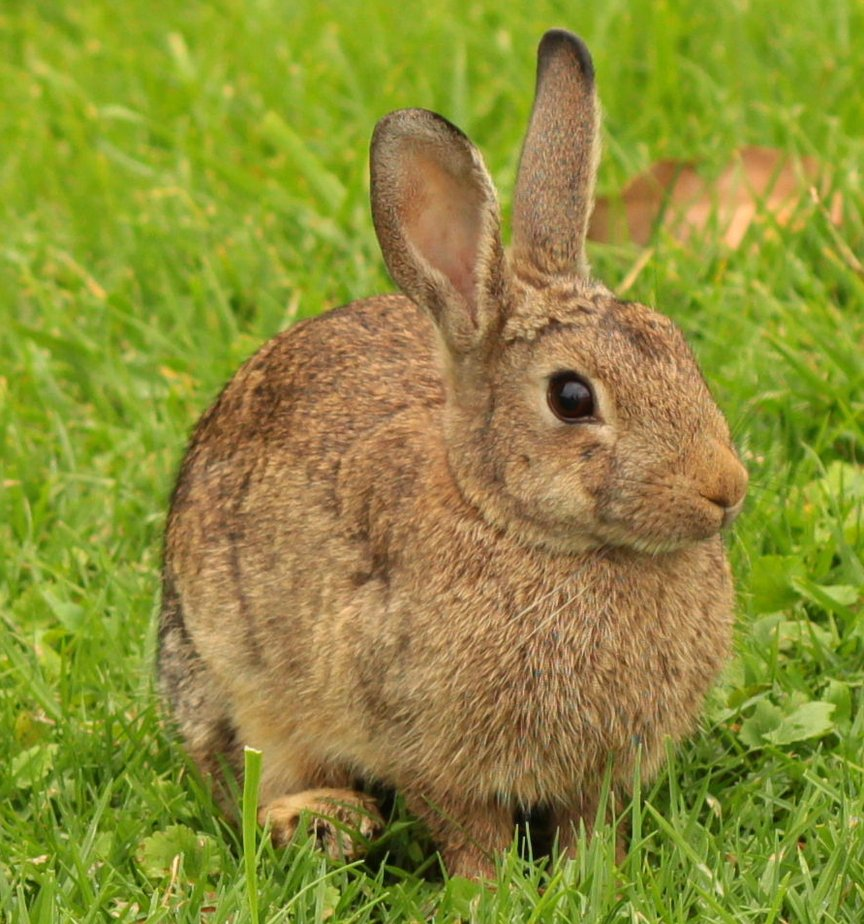bunny: (148, 26, 781, 885)
